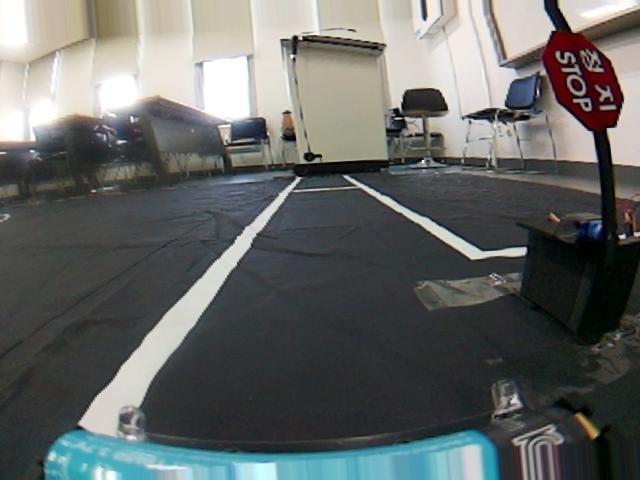sign_stop: (538, 29, 632, 132)
straight: (68, 172, 529, 449)
